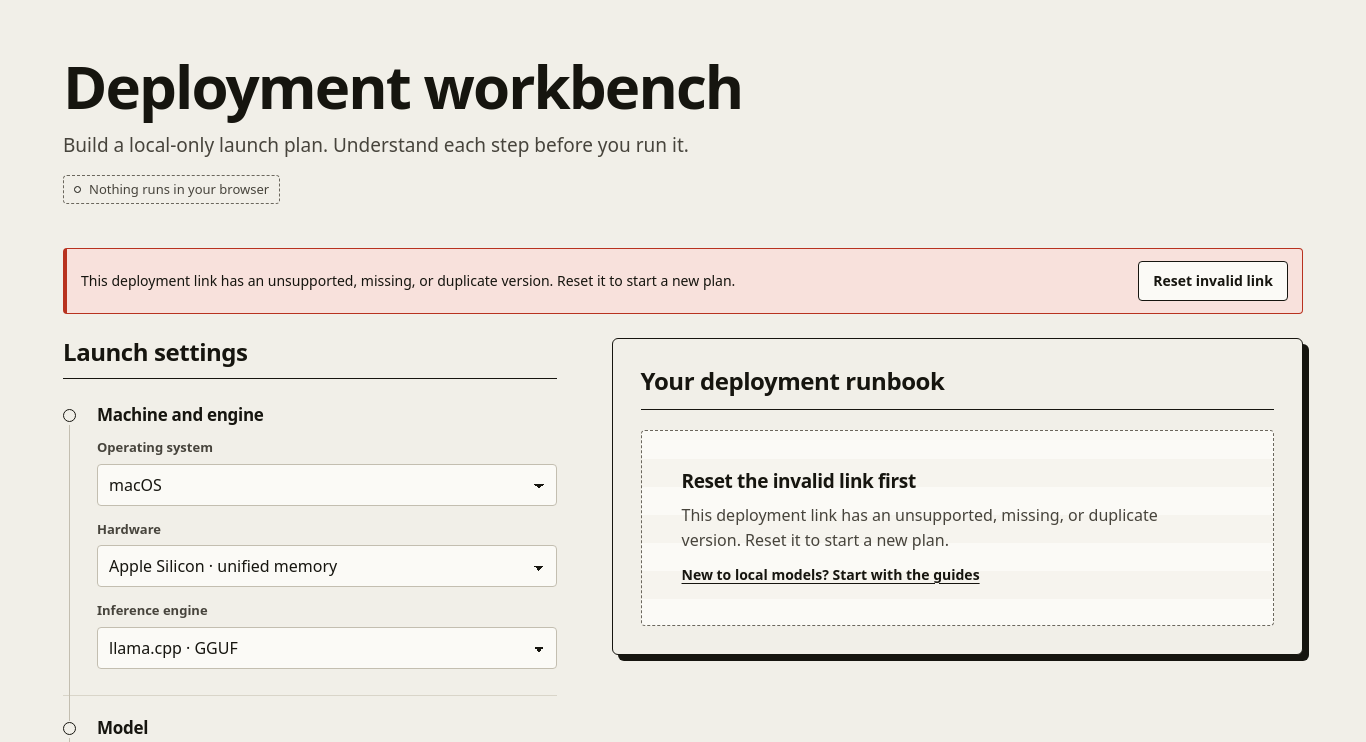
Test: deployment workbench › does not silently hide an invalid link
expect the message shows "unsupported": met, box 81,271 -> 735,290
What coordinates should you click on to do the following:
click the button "Reset invalid link"
I would click on:
 (1213, 281)
Its box is 1138,261 -> 1288,301.
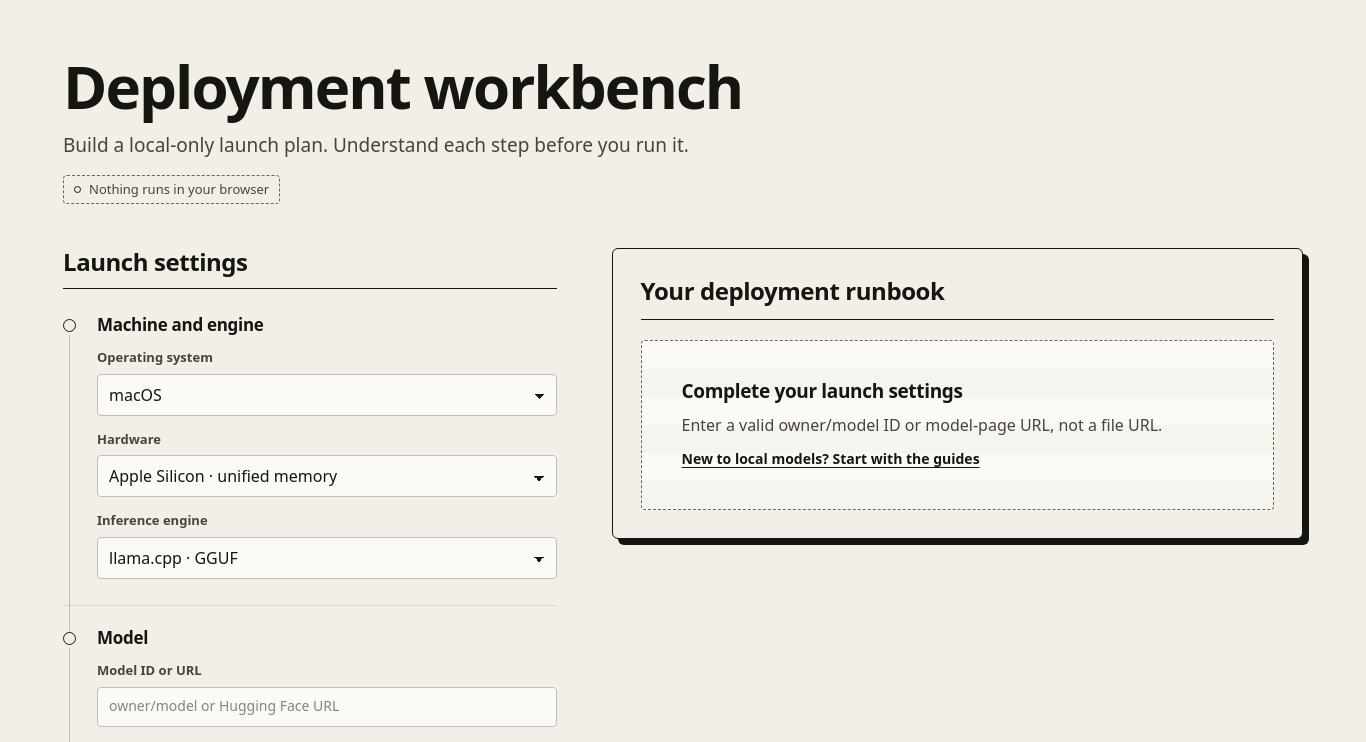
expect the message is gone: met
